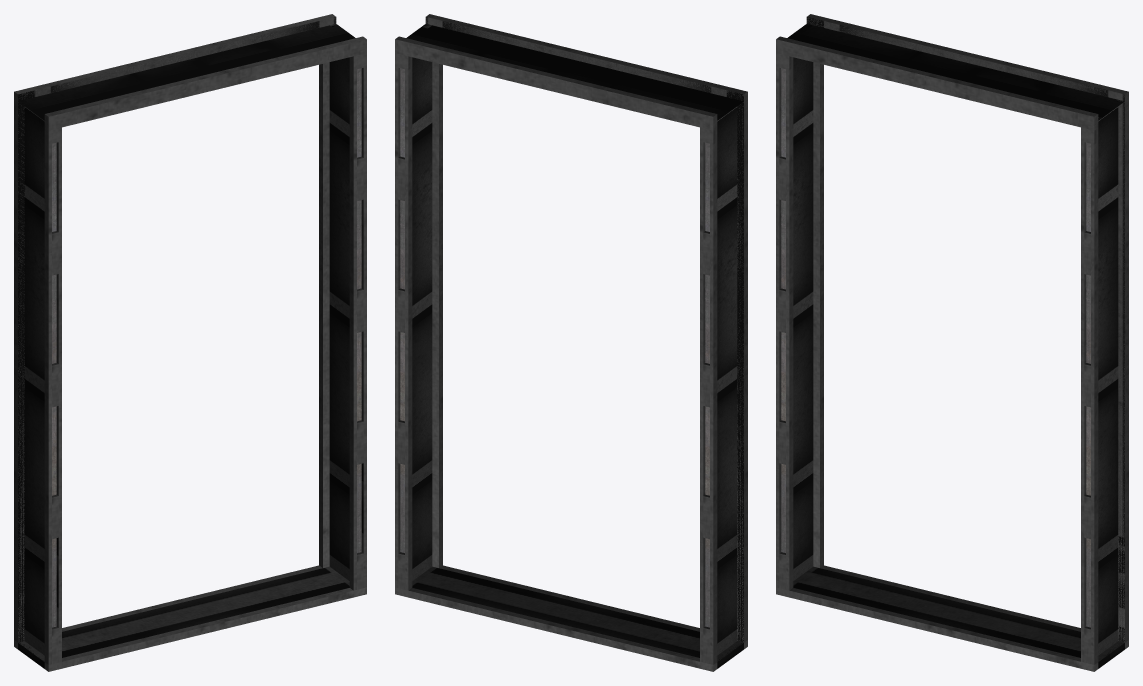
The model's file is DoorFrame.x.dae.
3 renders of one model, left to right at view 1: azimuth 30°, elevation 25°; view 2: azimuth 150°, elevation 25°; view 3: azimuth 330°, elevation 25°, orthographic.
Parts seen in each view (by area): view 1: World (×30); view 2: World (×31); view 3: World (×31).
Part boxes in pixels (x1,y1,x2,y2): World (×30): (14, 14, 366, 671); World (×31): (395, 14, 747, 671); World (×31): (776, 14, 1128, 671).
Bounding box in the file's own units: 192 × 320 × 36.
